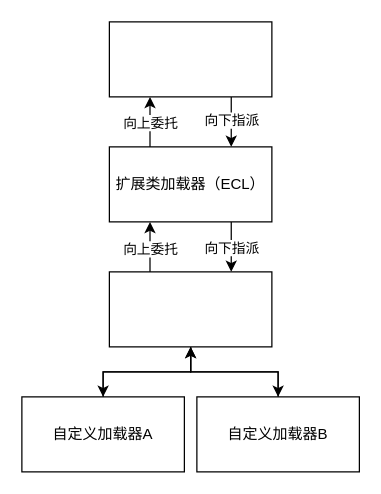
Some shapes in this 381 by 494 pixel diagram are drawn without their labels. The shapes that lost their labels are listed below. From the top down, each one's box as (x1, y1, x2, y2) in pixels, then its label:
(108, 21, 272, 97): 引导类加载器（BCL）
(108, 271, 272, 347): 应用类加载器（ACL）
